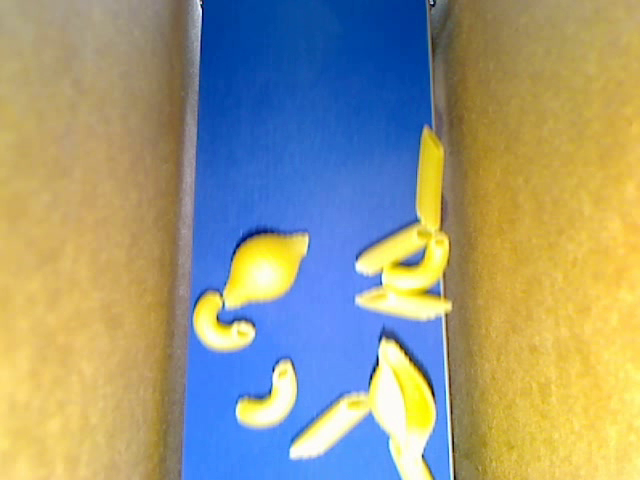elbow: (236, 358, 297, 430), (381, 233, 451, 295), (192, 289, 256, 353)
penne: (288, 391, 371, 458), (353, 222, 433, 276), (353, 284, 451, 323), (416, 124, 445, 233), (388, 434, 432, 479)
shell: (367, 337, 436, 461), (221, 230, 309, 311)
